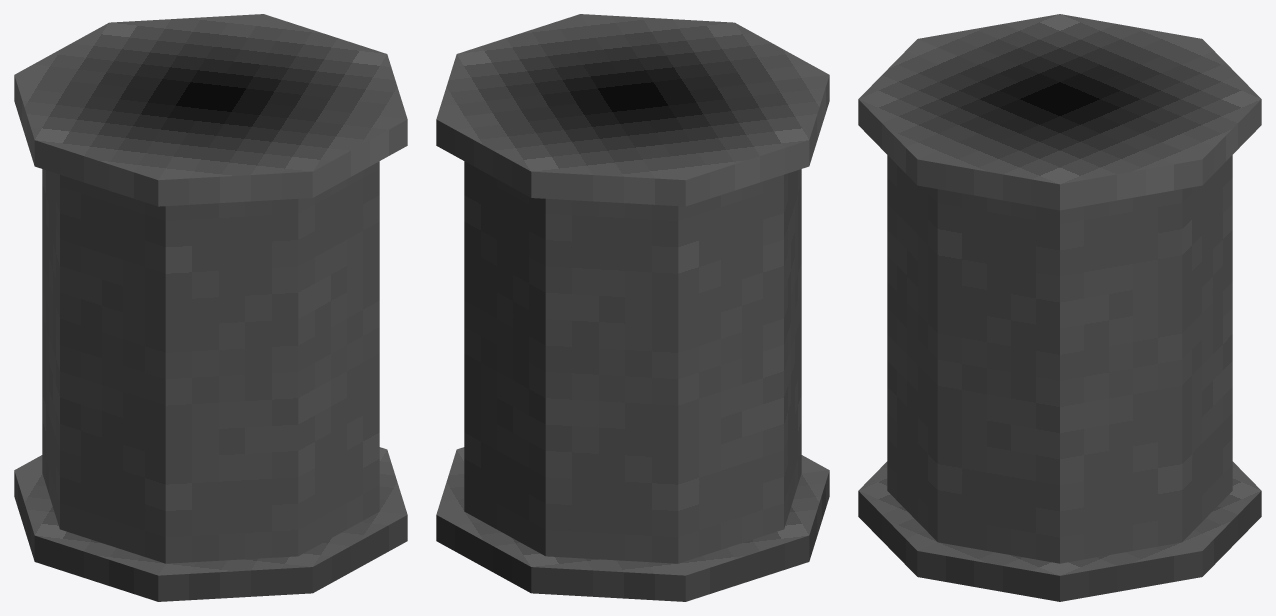
Rendered from pipe_rim.obj.
3 renders of one model, left to right at view 1: azimuth 30°, elevation 25°; view 2: azimuth 150°, elevation 25°; view 3: azimuth 270°, elevation 25°, orthographic.
Visible parts, largest first — view 1: Side, Top; view 2: Side, Top; view 3: Side, Top.
Part boxes in pixels (x1,y1,x2,y2): Side: (14, 75, 407, 601); Top: (14, 14, 407, 575); Side: (436, 75, 829, 601); Top: (436, 14, 829, 575); Side: (858, 99, 1261, 601); Top: (858, 14, 1261, 575).
Size of the model in its own units: 0.875 by 1 by 0.875.
